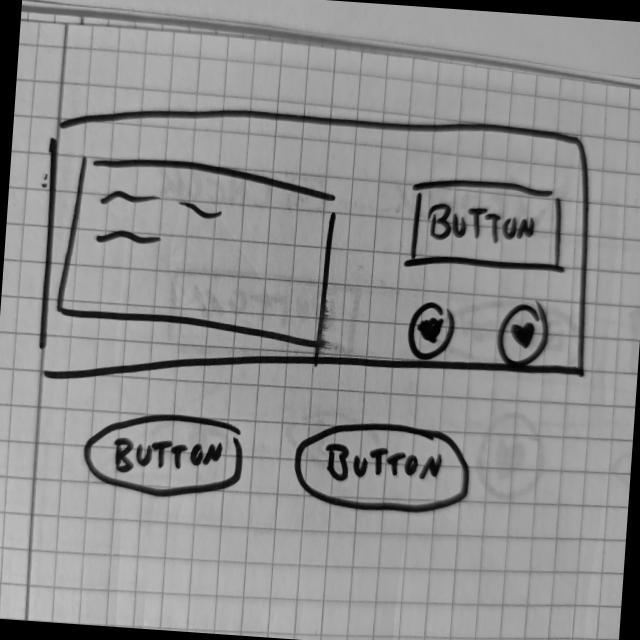button: (290, 416, 475, 519), (407, 173, 571, 279), (78, 408, 249, 506)
container: (31, 88, 607, 424)
icon-button: (496, 296, 554, 368), (405, 300, 462, 364)
textarea: (55, 151, 341, 352)
